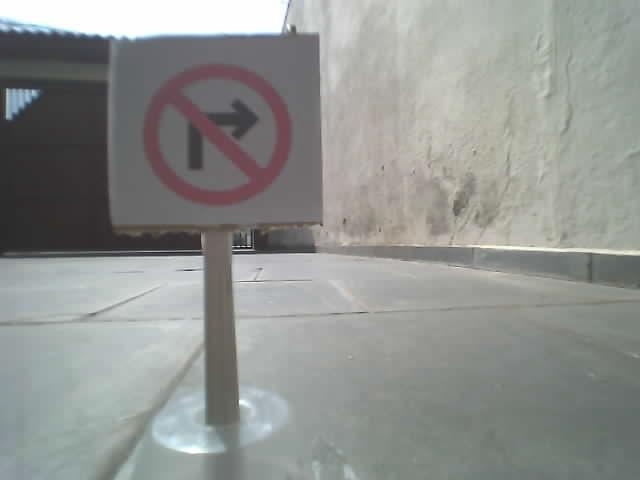R-4b_proibido-direita: (142, 63, 290, 204)
